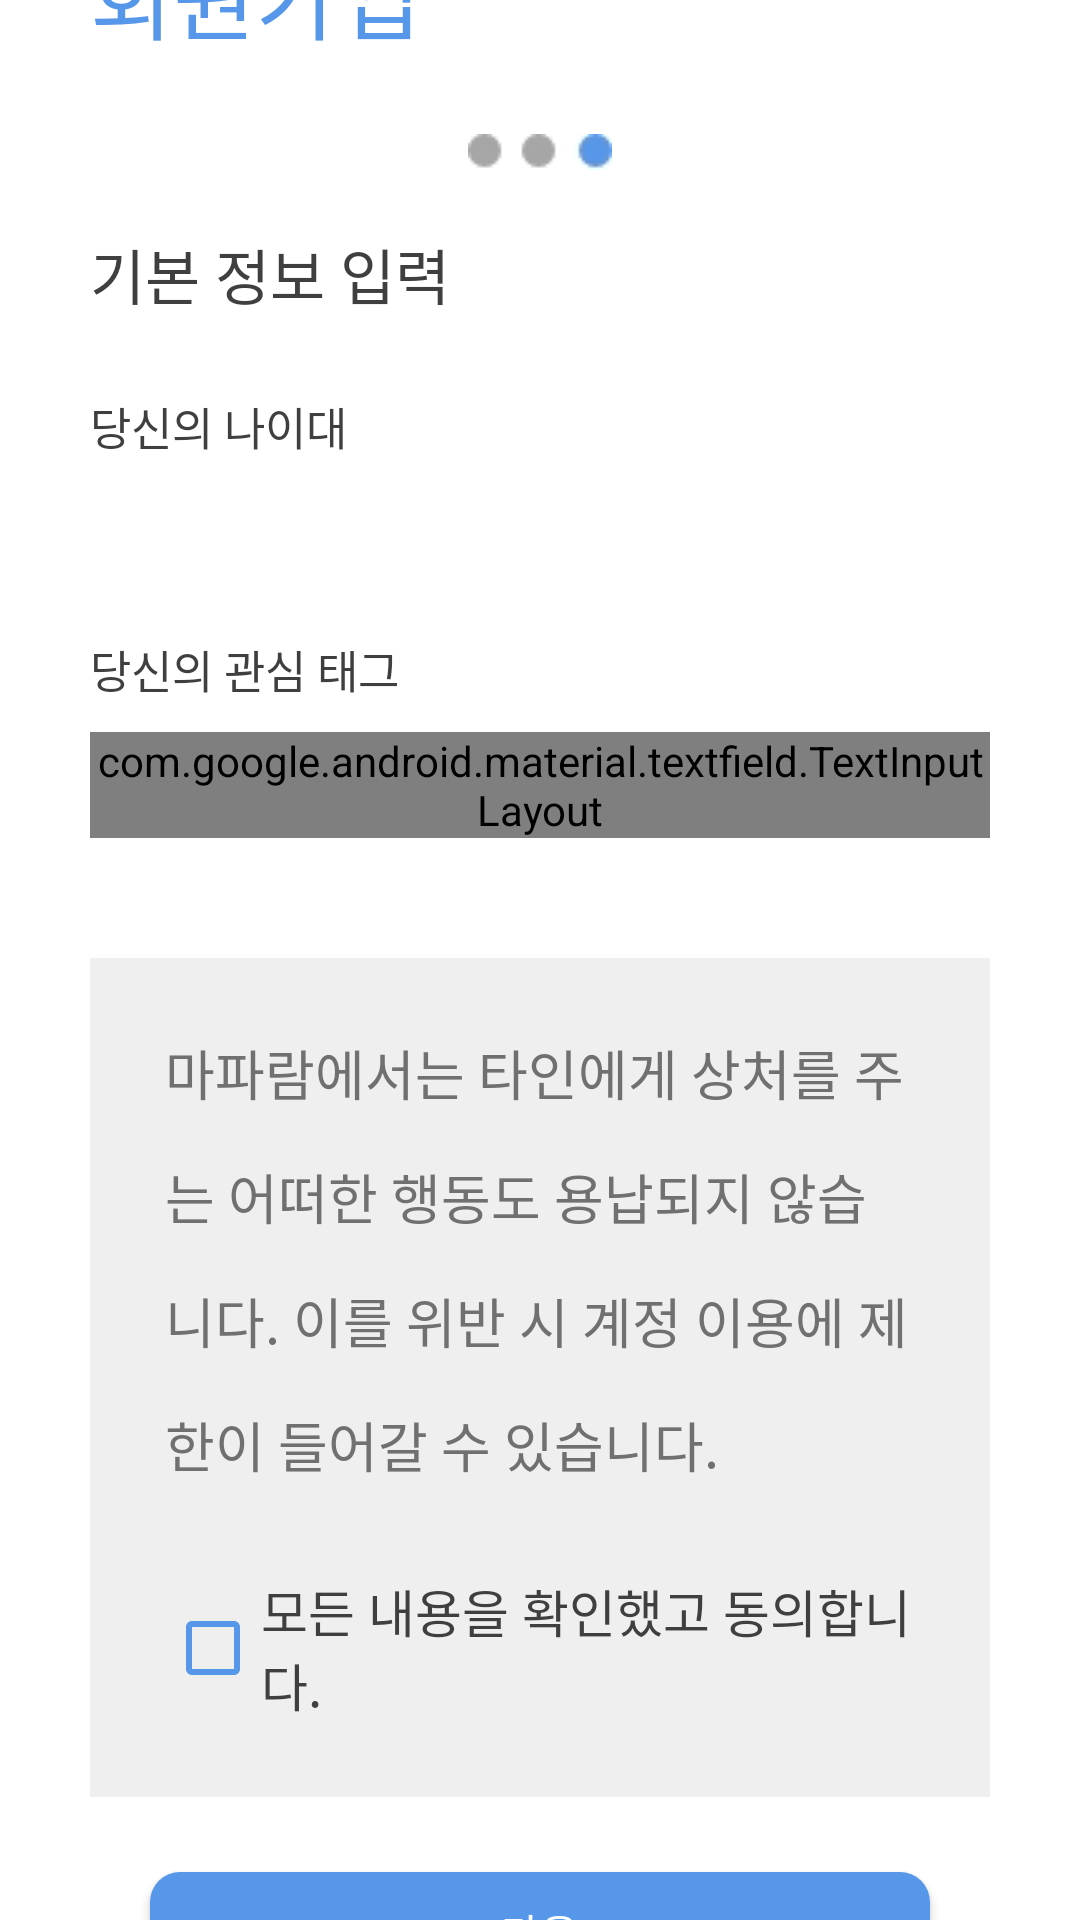

Named icons in this screenshot (1080 x 1920) and their bounding boxes, detection(x1, y1, x2, y2):
step: detection(468, 134, 612, 168)
